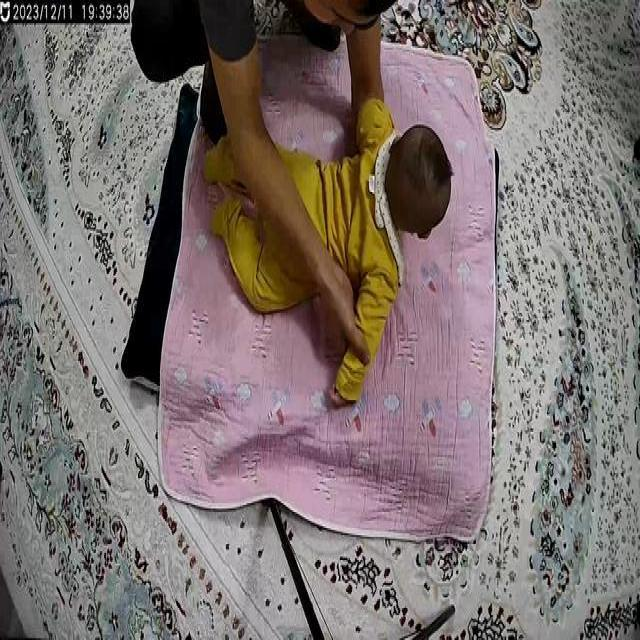baby: (189, 83, 454, 407)
